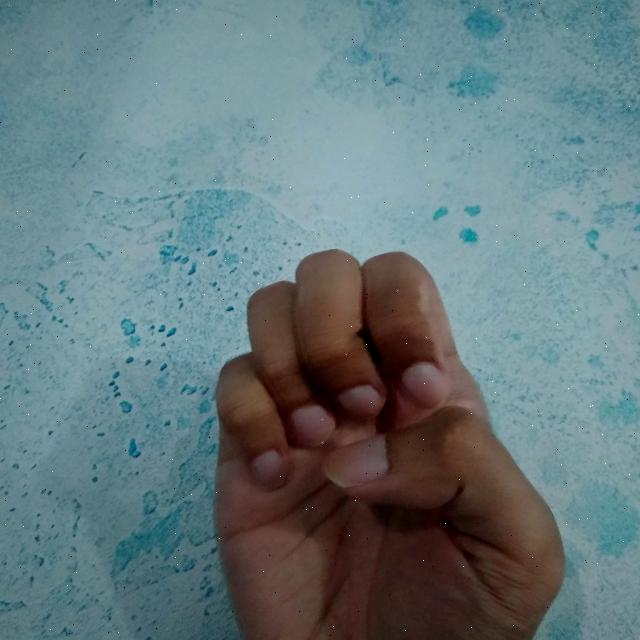E: (211, 246, 575, 640)
